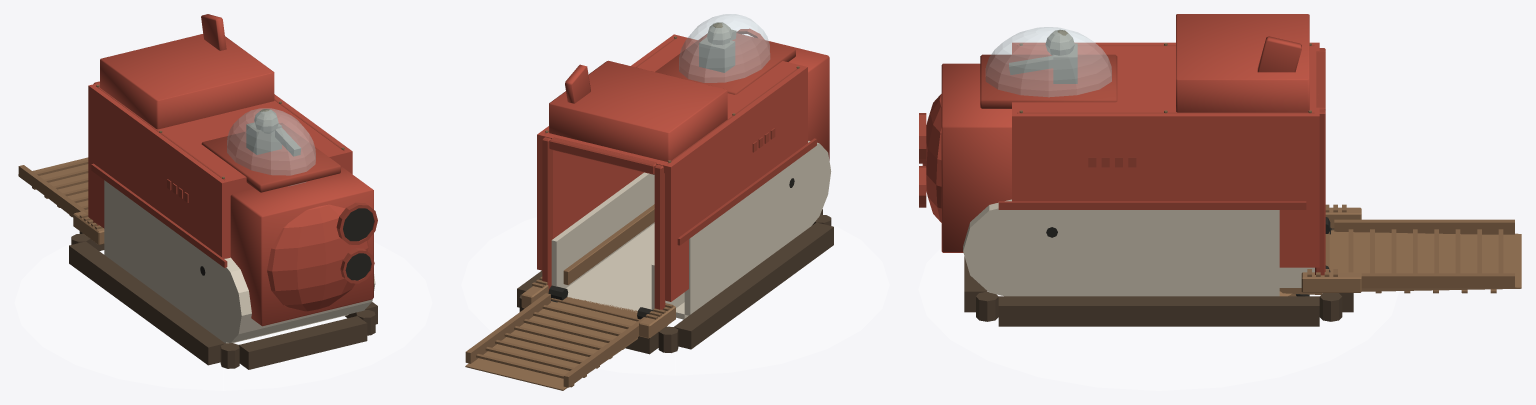
Rendered from socco-color-v2.glb.
3 renders of one model, left to right at view 1: azimuth 30°, elevation 25°; view 2: azimuth 150°, elevation 25°; view 3: azimuth 270°, elevation 25°, orthographic. The views are drawn at different scales.
Visible parts, largest first — view 1: socco-spray.002, n1.002, n7.002, n3.002, n9.002, n5.002, n70.002, n15.002, n16.002, n76.002, n11.002, n13.002 (+13 smaller); view 2: socco-spray.002, n1.002, n7.002, n9.002, n70.002, socco-ramp.002, socco-details-n0-SoccoV1_Source_m5.001, n15.002, n106.002, socco-hold-floor.002, n16.002, socco-details-n0-SoccoV1_Source_m11.001 (+19 smaller); view 3: n1.002, socco-spray.002, n9.002, n7.002, n3.002, n72.002, n15.002, socco-ramp.002, n16.002, n11.002, n14.002, socco-details-n0-SoccoV1_Source_m5.001 (+12 smaller).
Boxes of the visible parts, left/top/right/bottom form: socco-spray.002: left=15, top=242, right=431, bottom=390; n1.002: left=88, top=83, right=352, bottom=258; n7.002: left=100, top=34, right=274, bottom=129; n3.002: left=230, top=167, right=373, bottom=326; n9.002: left=104, top=180, right=348, bottom=343; n5.002: left=267, top=204, right=368, bottom=311; n70.002: left=69, top=241, right=224, bottom=365; n15.002: left=227, top=108, right=315, bottom=186; n16.002: left=201, top=123, right=340, bottom=192; n76.002: left=239, top=316, right=367, bottom=369; n11.002: left=211, top=257, right=375, bottom=343; n13.002: left=91, top=163, right=227, bottom=267; socco-spray.002: left=461, top=217, right=889, bottom=375; n1.002: left=537, top=34, right=807, bottom=301; n7.002: left=549, top=60, right=727, bottom=174; n9.002: left=676, top=151, right=809, bottom=319; n70.002: left=674, top=222, right=833, bottom=349; socco-ramp.002: left=465, top=301, right=637, bottom=390; socco-details-n0-SoccoV1_Source_m5.001: left=542, top=37, right=800, bottom=309; n15.002: left=679, top=14, right=770, bottom=82; n106.002: left=551, top=172, right=654, bottom=288; socco-hold-floor.002: left=566, top=224, right=654, bottom=312; n16.002: left=655, top=33, right=795, bottom=94; socco-details-n0-SoccoV1_Source_m11.001: left=545, top=36, right=799, bottom=321; n1.002: left=1012, top=42, right=1319, bottom=267; socco-spray.002: left=918, top=248, right=1398, bottom=390; n9.002: left=1012, top=210, right=1279, bottom=296; n7.002: left=1176, top=14, right=1309, bottom=112; n3.002: left=941, top=63, right=1011, bottom=252; n72.002: left=998, top=296, right=1319, bottom=326; n15.002: left=985, top=27, right=1111, bottom=97; socco-ramp.002: left=1329, top=230, right=1521, bottom=291; n16.002: left=980, top=54, right=1117, bottom=108; n11.002: left=963, top=199, right=1067, bottom=296; n14.002: left=998, top=201, right=1306, bottom=209; socco-details-n0-SoccoV1_Source_m5.001: left=1017, top=45, right=1325, bottom=275.
Bounding box in the file's own units: 7.2 × 4.71 × 9.02.
